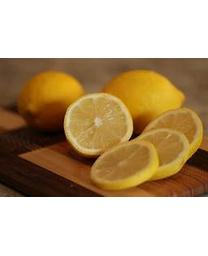lemon: (100, 68, 186, 127), (65, 93, 135, 154), (17, 70, 86, 124), (91, 139, 159, 189), (145, 107, 204, 156), (137, 130, 191, 177)
